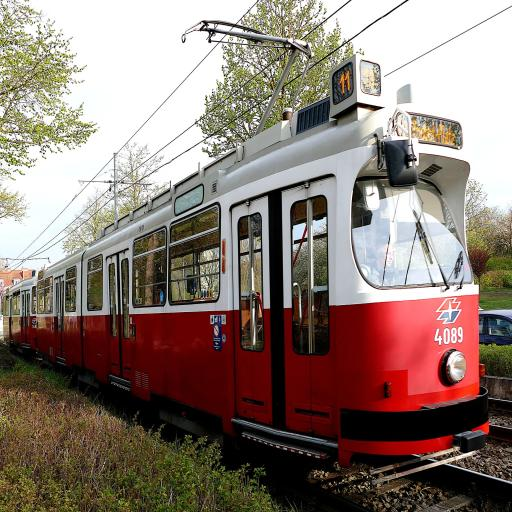E2-Tram: (0, 51, 487, 474)
